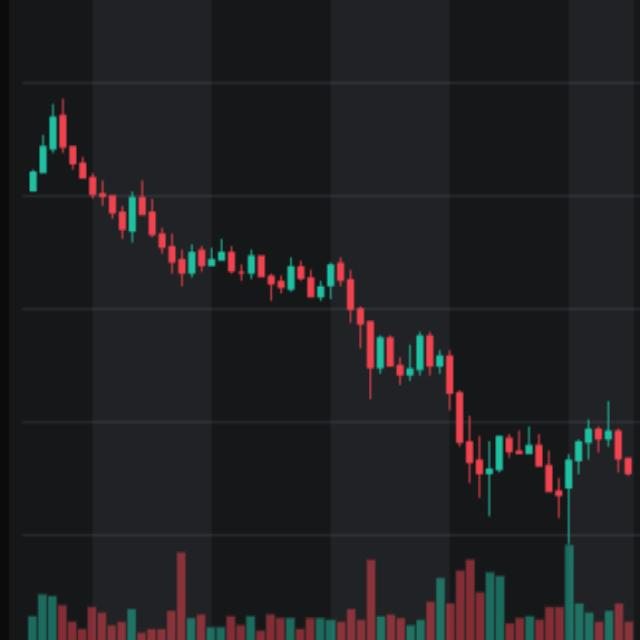Support-breakout: (264, 256, 484, 508)
